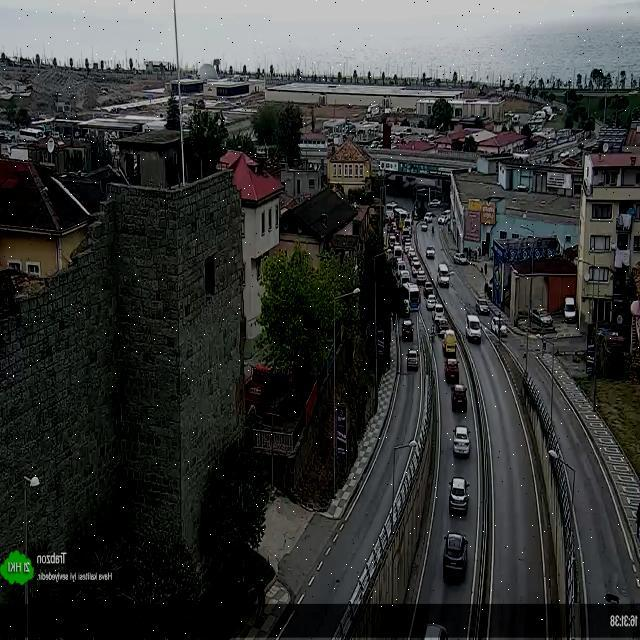bus: (402, 282, 420, 311)
car: (442, 532, 468, 584), (449, 478, 468, 516), (530, 308, 554, 331), (452, 425, 468, 457), (442, 329, 458, 358), (490, 315, 509, 337), (451, 385, 466, 412), (445, 359, 459, 384), (406, 349, 419, 371), (435, 316, 449, 336), (564, 298, 575, 322), (401, 320, 412, 341), (476, 299, 489, 314), (454, 252, 469, 264), (426, 294, 436, 311), (424, 281, 434, 297), (435, 304, 444, 321), (416, 270, 426, 284), (426, 246, 435, 258), (411, 260, 420, 268)
minivan: (466, 315, 480, 343), (398, 270, 410, 283), (398, 260, 406, 269)
